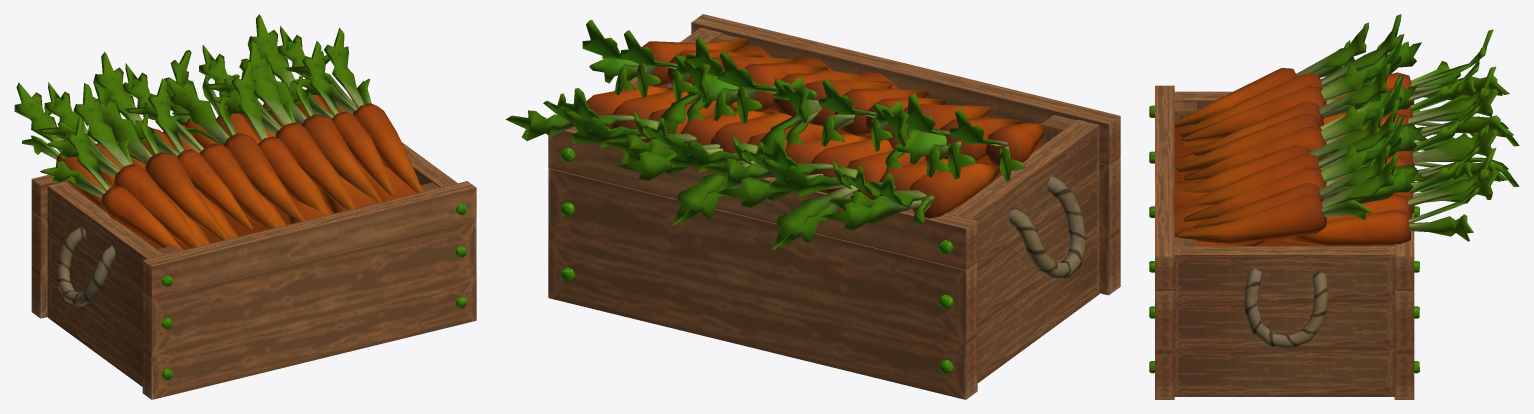
The model's file is prop_crate_carrots.glb.
The picture shows the model from 3 angles, left to right: view 1: azimuth 30°, elevation 25°; view 2: azimuth 150°, elevation 25°; view 3: azimuth 270°, elevation 25°; orthographic projection. The views are drawn at different scales.
Visible parts, largest first — view 1: FarmCrate_Carrot; view 2: FarmCrate_Carrot; view 3: FarmCrate_Carrot.
Part boxes in pixels (box(x1,y1,x2,y2)): FarmCrate_Carrot: box(14, 14, 476, 399); FarmCrate_Carrot: box(506, 14, 1120, 399); FarmCrate_Carrot: box(1149, 14, 1519, 399).
Bounding box in the file's own units: 0.7138 × 0.4113 × 0.567.
Materials: 3 (3 with a texture image).
